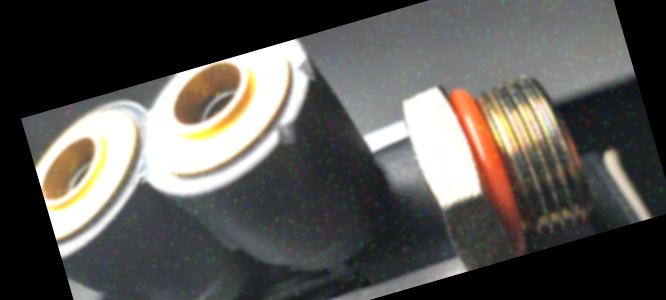bump: (266, 109, 310, 154), (289, 47, 326, 92)
joint line: (379, 160, 410, 178)
white mark: (408, 149, 421, 164)
